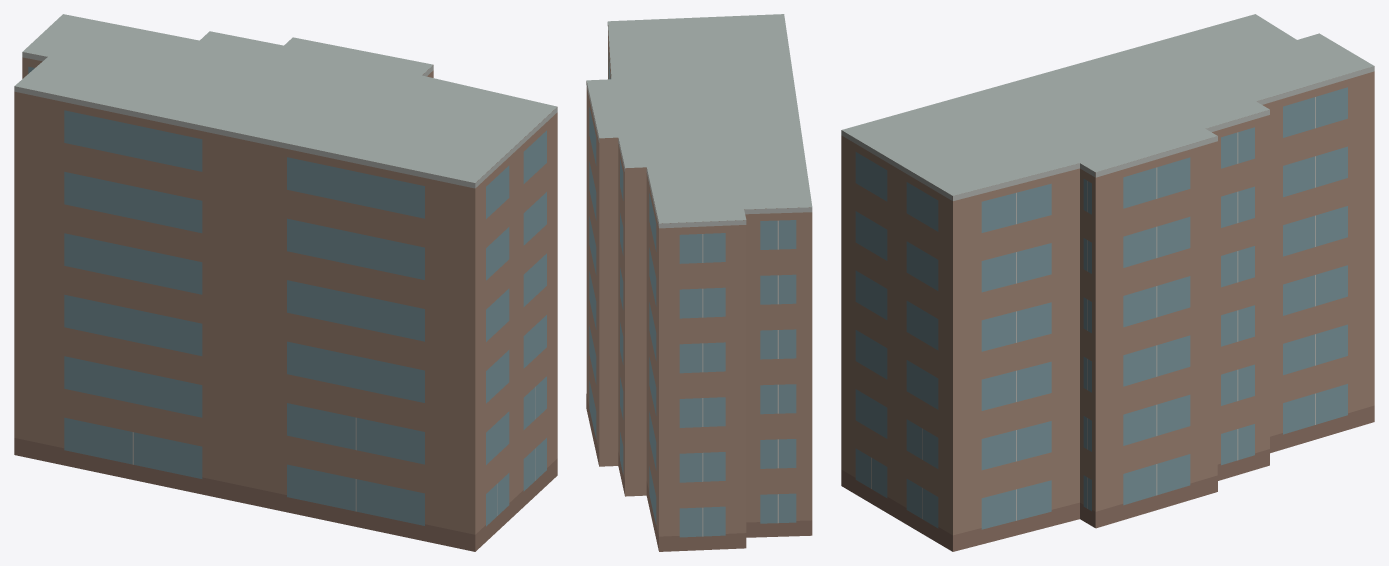
Rendered from survey-upis-32748314.glb.
The picture shows the model from 3 angles, left to right: view 1: azimuth 30°, elevation 25°; view 2: azimuth 150°, elevation 25°; view 3: azimuth 270°, elevation 25°; orthographic projection. The views are drawn at different scales.
Visible parts, largest first — view 1: survey-upis-32748314.tmp; view 2: survey-upis-32748314.tmp; view 3: survey-upis-32748314.tmp.
Part boxes in pixels (box(x1,y1,x2,y2)): survey-upis-32748314.tmp: box(14, 14, 557, 551); survey-upis-32748314.tmp: box(586, 14, 812, 551); survey-upis-32748314.tmp: box(841, 14, 1374, 551).
Bounding box in the file's own units: 18.1 × 16.5 × 22.41.
